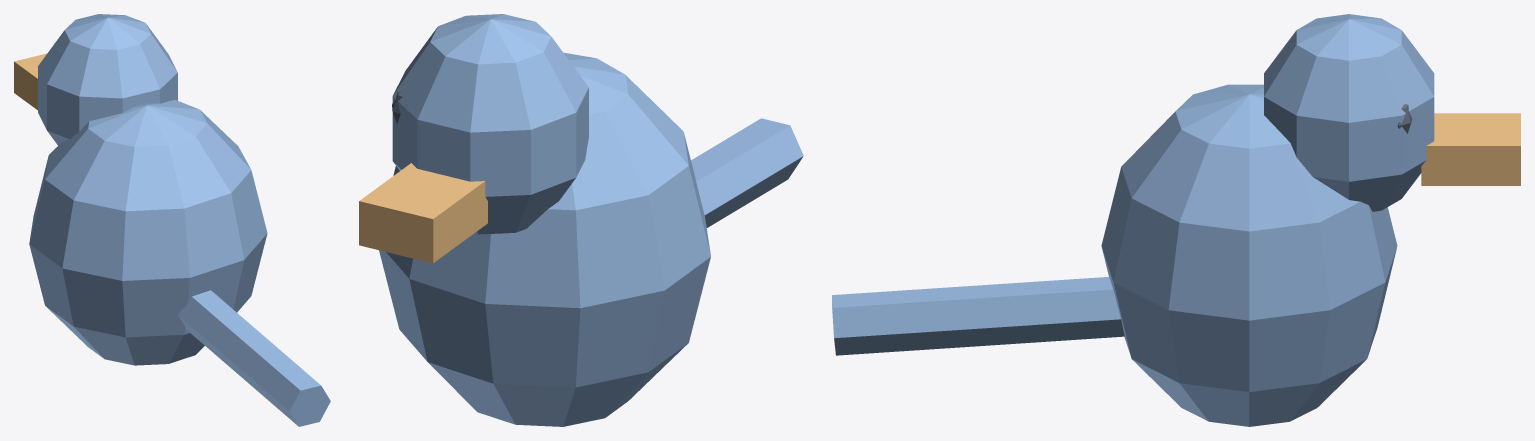
Rendered from loro_azul.glb.
The picture shows the model from 3 angles, left to right: view 1: azimuth 30°, elevation 25°; view 2: azimuth 150°, elevation 25°; view 3: azimuth 270°, elevation 25°; orthographic projection. The views are drawn at different scales.
Parts seen in each view (by area): view 1: loro_azul; view 2: loro_azul; view 3: loro_azul.
Part boxes in pixels (left/top/right/bottom): loro_azul: left=14, top=14, right=330, bottom=426; loro_azul: left=359, top=14, right=803, bottom=426; loro_azul: left=832, top=14, right=1520, bottom=426.
Bounding box in the file's own units: 0.5487 × 0.79 × 1.24.
